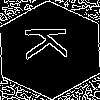K: (25, 25, 78, 60)
